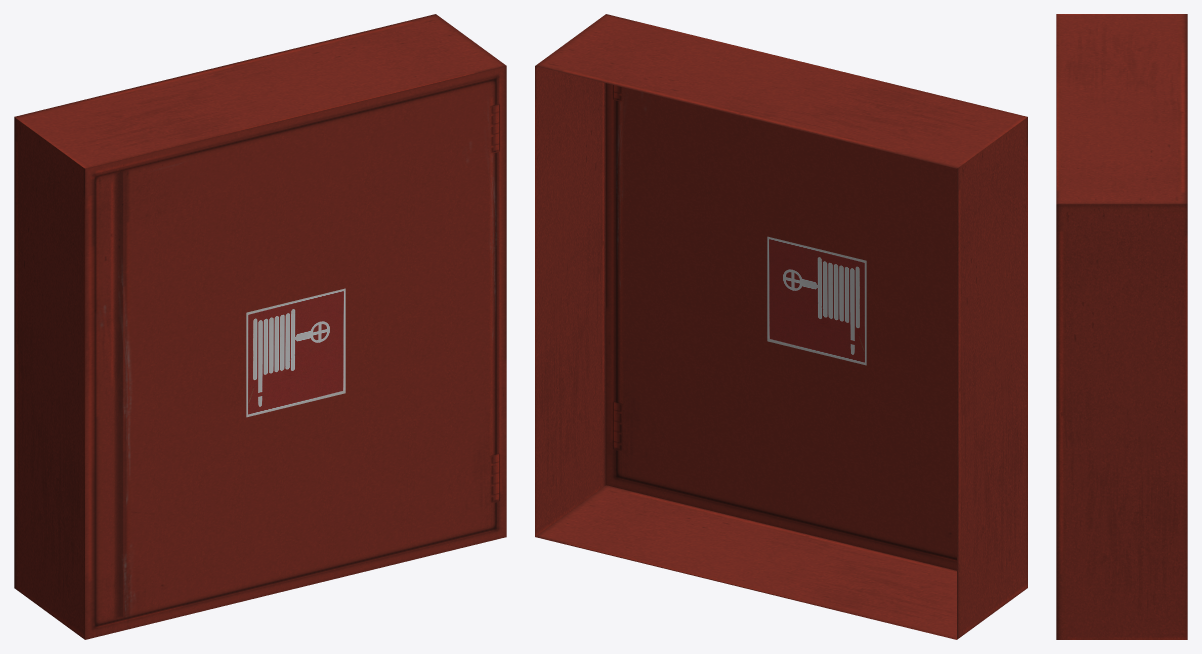
File: ms_fire_hosebox.fbx
The picture shows the model from 3 angles, left to right: view 1: azimuth 30°, elevation 25°; view 2: azimuth 150°, elevation 25°; view 3: azimuth 270°, elevation 25°; orthographic projection. The views are drawn at different scales.
Visible parts, largest first — view 1: ms_fire_hosebox; view 2: ms_fire_hosebox; view 3: ms_fire_hosebox.
Boxes of the visible parts, x1,y1,x2,y2 form: ms_fire_hosebox: [14, 14, 506, 639]; ms_fire_hosebox: [535, 14, 1027, 639]; ms_fire_hosebox: [1056, 14, 1187, 639].
Size of the model in its own units: 73.95 by 78.95 by 21.55.
